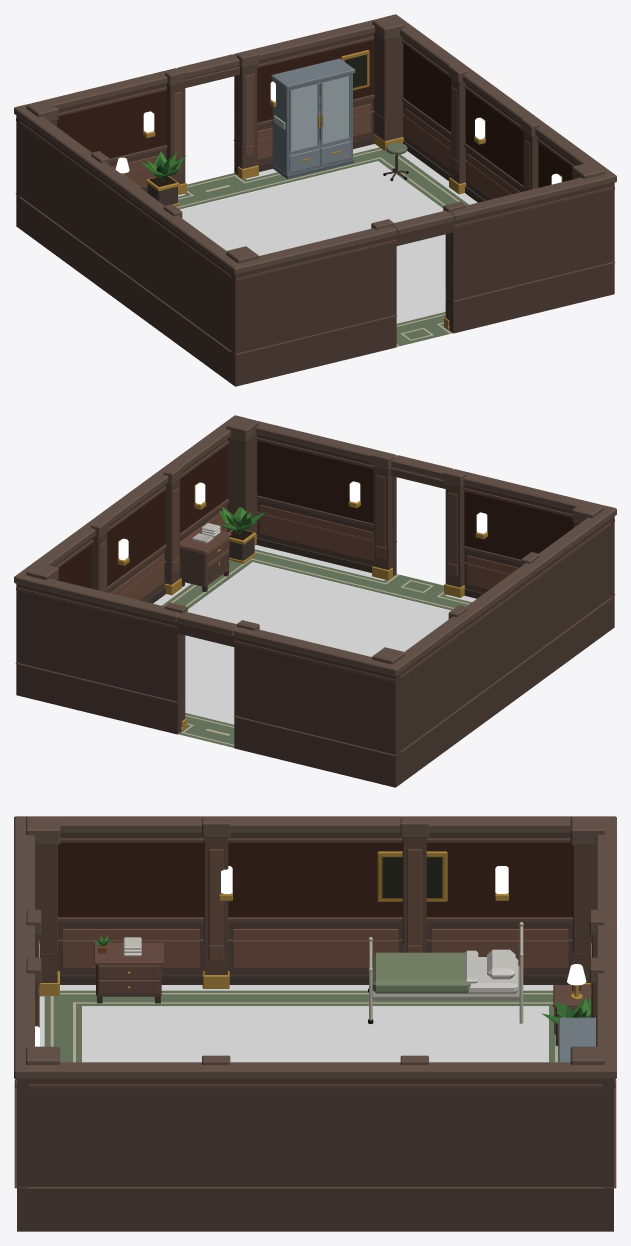
The model's file is infirmary2.glb.
3 renders of one model, top to bottom at view 1: azimuth 30°, elevation 25°; view 2: azimuth 150°, elevation 25°; view 3: azimuth 270°, elevation 25°, orthographic. The views are drawn at different scales.
Parts seen in each view (by area): view 1: static, floor, W_west_0_up, W_south_0_up, W_south_1_up, W_east_0_up, W_north_0_up, W_north_1_up; view 2: static, floor, W_west_0_up, W_north_0_up, W_north_1_up, W_south_1_up, W_east_0_up, W_south_0_up; view 3: W_east_0_up, W_west_0_up, static, floor, W_north_0_up, W_south_0_up, W_south_1_up, W_north_1_up.
Part boxes in pixels (x1,y1,x2,y2): static: [15, 58, 615, 386]; floor: [175, 144, 477, 346]; W_west_0_up: [14, 104, 246, 350]; W_south_0_up: [226, 210, 453, 353]; W_south_1_up: [443, 162, 616, 300]; W_east_0_up: [385, 14, 616, 194]; W_north_0_up: [14, 54, 239, 196]; W_north_1_up: [234, 15, 404, 146]; static: [15, 493, 615, 787]; floor: [153, 545, 476, 747]; W_west_0_up: [384, 505, 616, 751]; W_north_0_up: [177, 611, 404, 754]; W_north_1_up: [14, 563, 187, 701]; W_south_1_up: [226, 416, 396, 547]; W_east_0_up: [14, 415, 245, 595]; W_south_0_up: [391, 455, 616, 597]; W_east_0_up: [14, 1055, 616, 1186]; W_west_0_up: [14, 816, 616, 945]; static: [14, 922, 616, 1231]; floor: [39, 985, 558, 1062]; W_north_0_up: [570, 816, 616, 987]; W_south_0_up: [14, 816, 60, 987]; W_south_1_up: [14, 957, 60, 1186]; W_north_1_up: [570, 957, 616, 1186].
Size of the model in its own units: 8.08 by 2.48 by 8.08.
